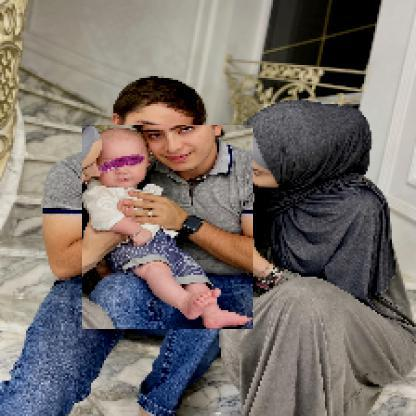child: (83, 126, 255, 331)
